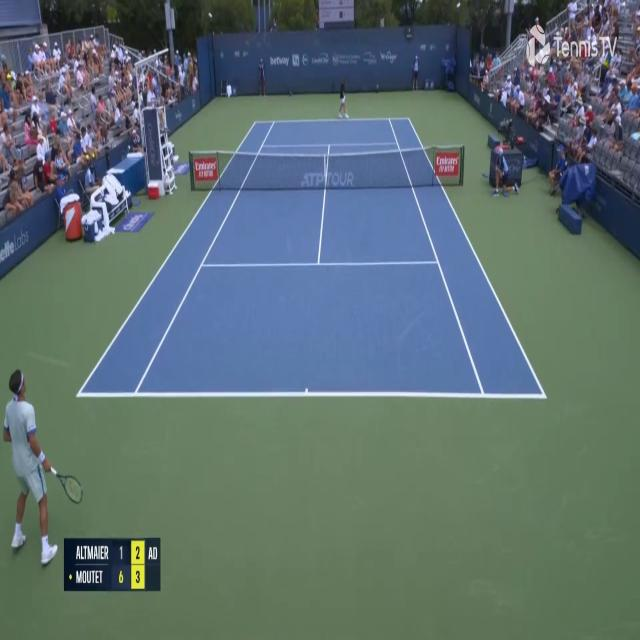tennis-player: (3, 365, 82, 572), (337, 75, 350, 121)
